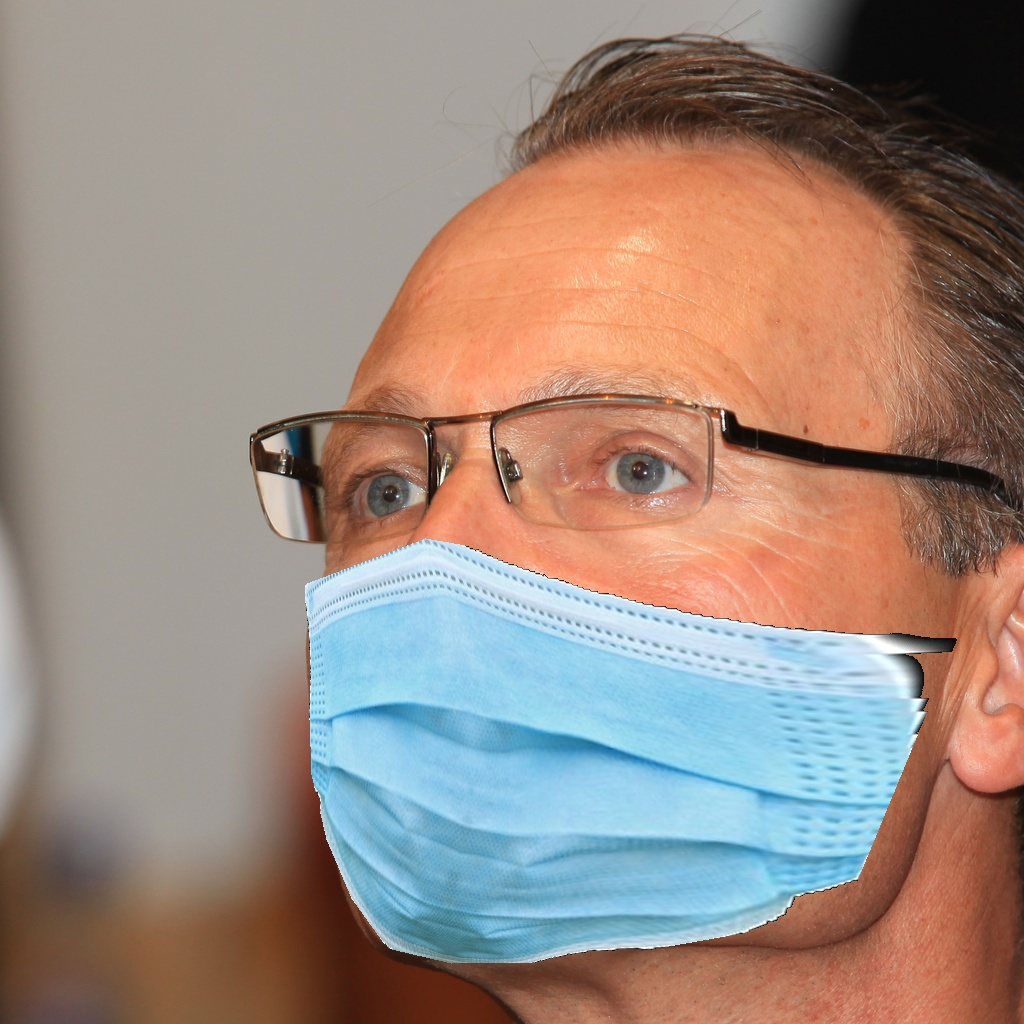Mask: (299, 373, 915, 986)
